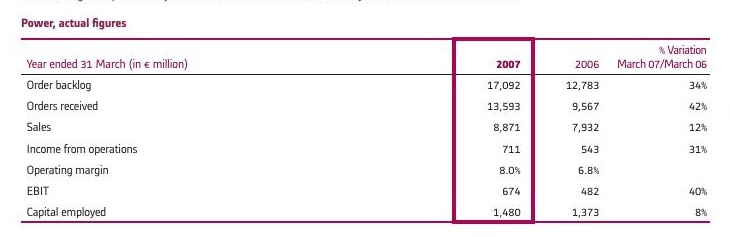table: (0, 0, 730, 237)
